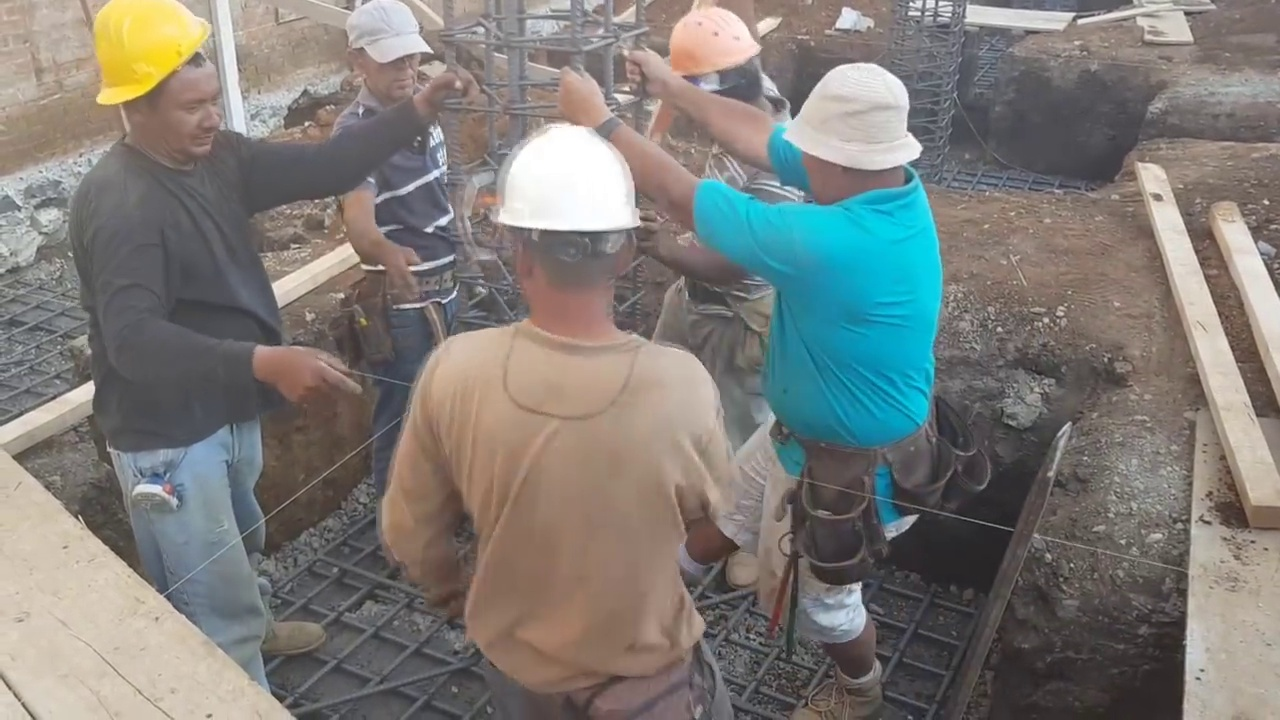helmet: (488, 118, 645, 244), (81, 3, 211, 113), (661, 8, 762, 80)
helmet-off: (784, 67, 926, 215), (342, 5, 438, 105)
helmet-on: (489, 114, 646, 353), (78, 2, 224, 182), (658, 4, 790, 129)
person: (62, 4, 481, 698), (534, 43, 952, 701), (377, 100, 752, 718), (330, 9, 505, 506), (651, 7, 790, 447)
